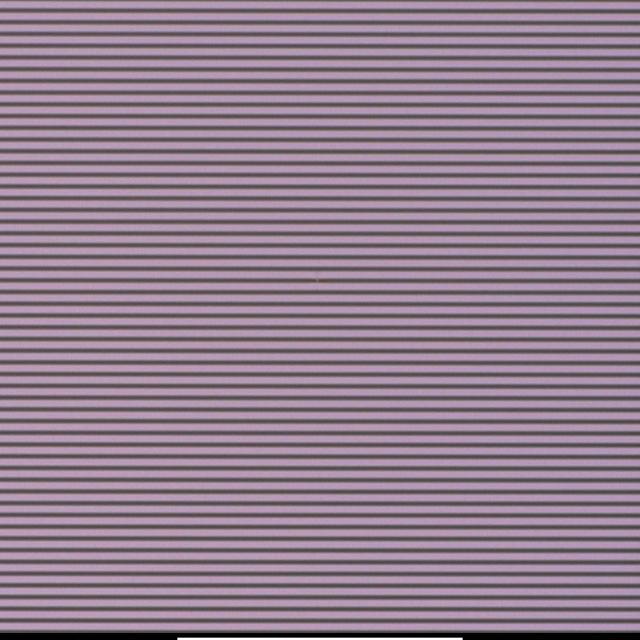03_intrusion: (313, 276, 325, 288)
